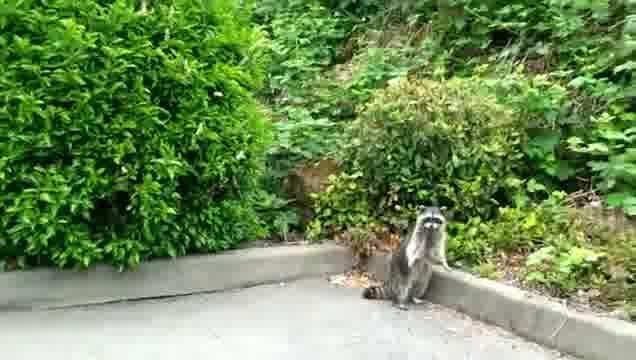raccoon: (363, 206, 452, 312)
